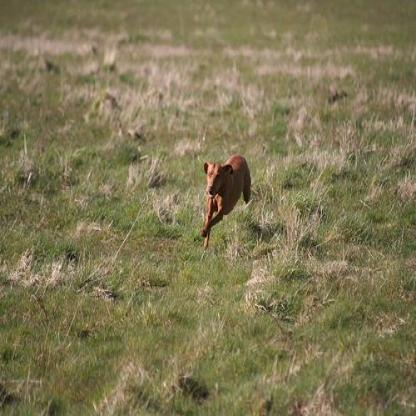vizsla: (196, 149, 250, 250)
